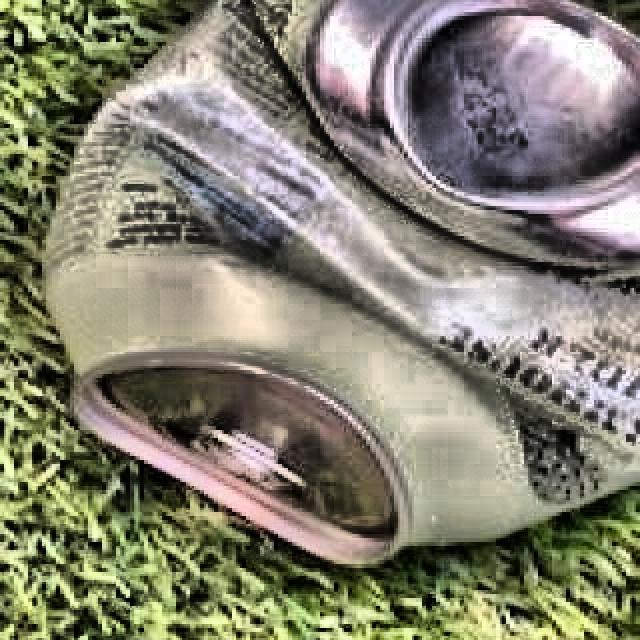metal: (22, 0, 640, 579)
